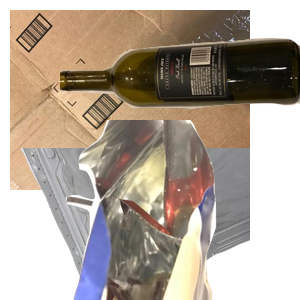cardboard: (10, 10, 250, 190)
glass: (60, 36, 300, 147)
plastic: (19, 148, 259, 300)
trash: (63, 120, 300, 300)
